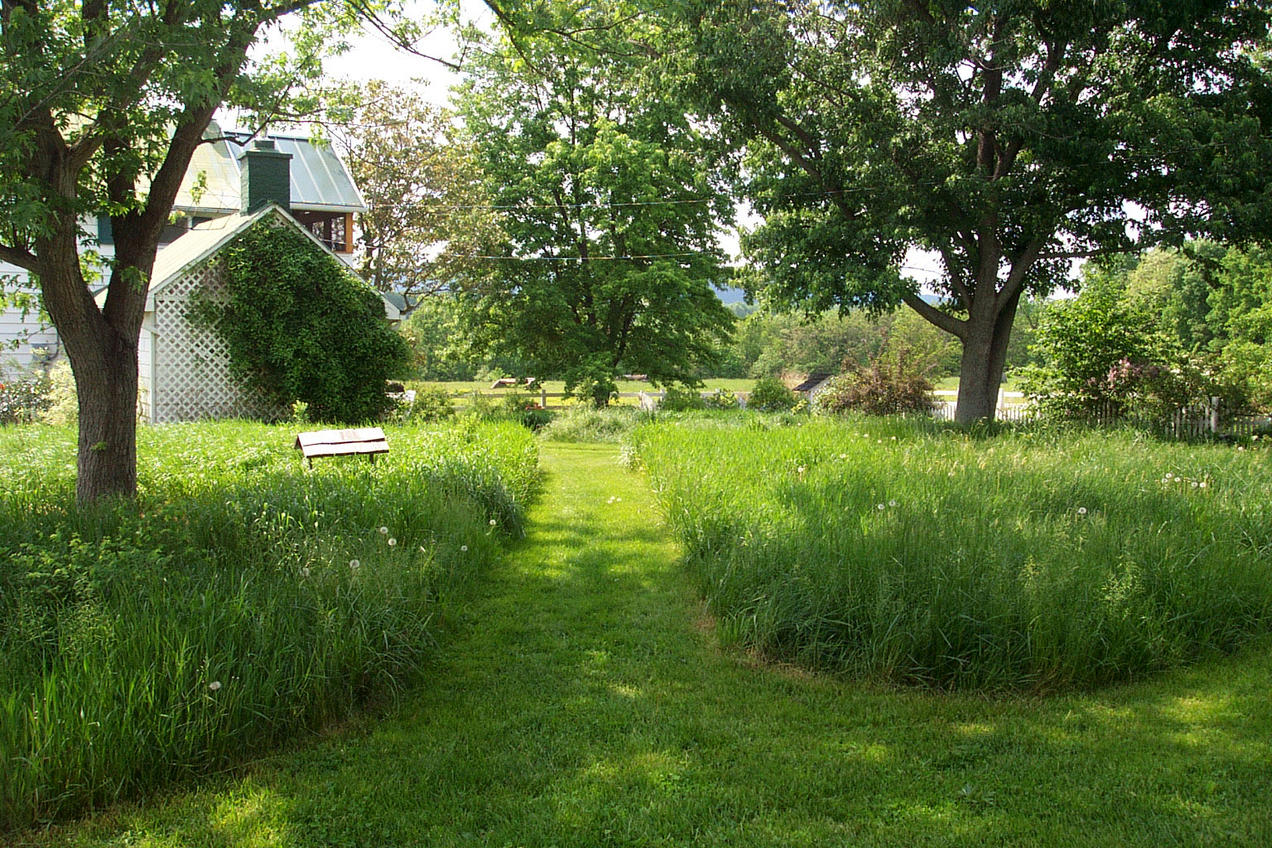grass: (0, 521, 1267, 843), (156, 420, 1269, 518)
tree: (63, 248, 141, 509), (954, 279, 1012, 431)
